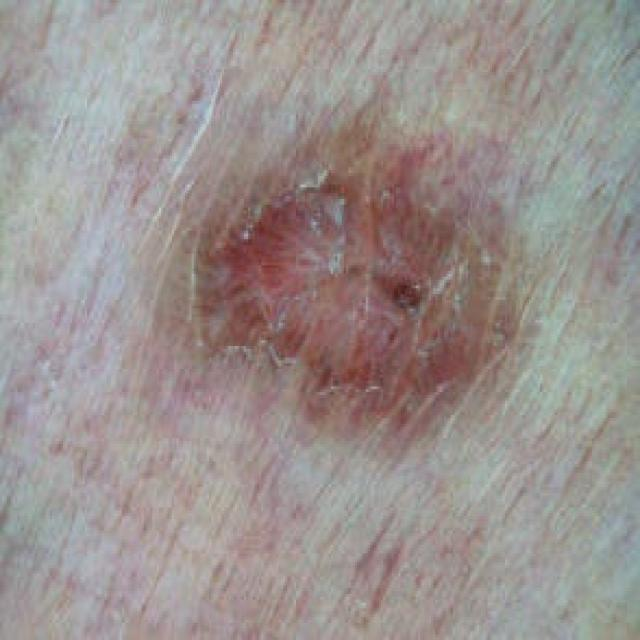Psoriasis-pictures-Lichen-Planus: (154, 123, 552, 418)
